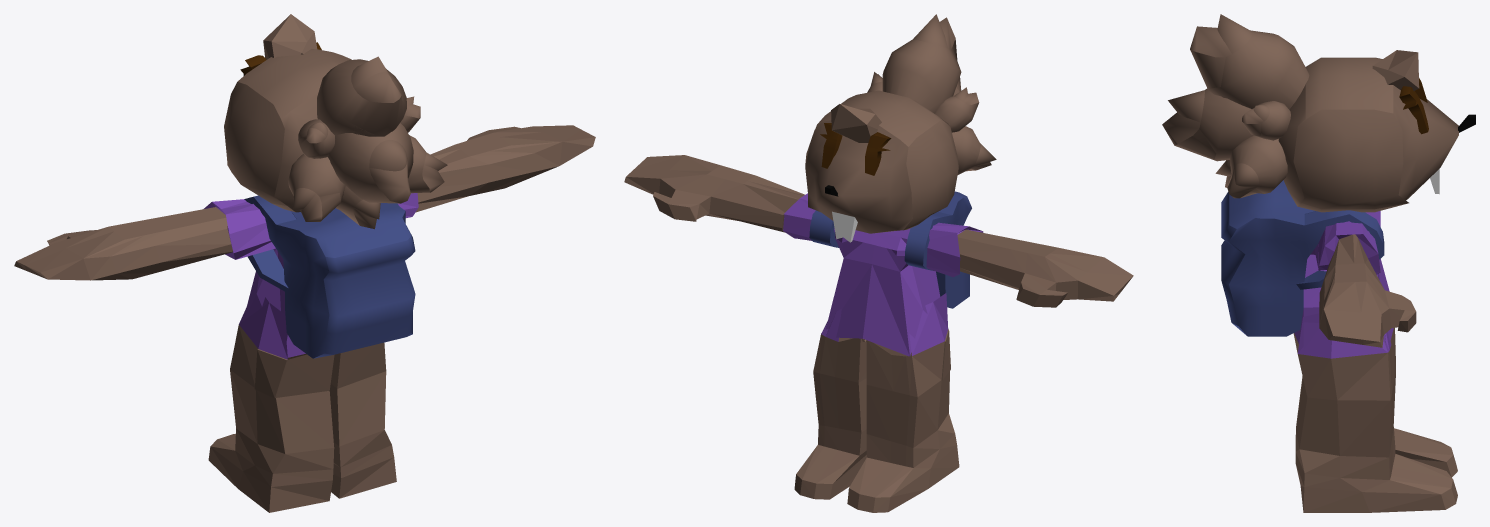
3 views of the same model, side by side, from view 1: azimuth 30°, elevation 25°; view 2: azimuth 150°, elevation 25°; view 3: azimuth 270°, elevation 25° (orthographic). The views are drawn at different scales.
Visible parts, largest first — view 1: pCube1, pCube6, pCube2, pCylinder3, pCylinder4, pCylinder6, pPlatonic2, pCylinder5, pCylinder9, pCylinder7; view 2: pCube1, pCube2, pCylinder3, pCube6, pPlatonic2, pCube4, pCylinder6, pCylinder9; view 3: pCube1, pCube2, pCube6, pCylinder3, pCylinder4, pCylinder5, pCylinder8, pPlatonic2, pCube4.
Part boxes in pixels (box(x1,y1,x2,y2)): pCube1: box(14, 125, 595, 512); pCube6: box(244, 195, 415, 358); pCube2: box(224, 49, 351, 212); pCylinder3: box(317, 56, 406, 136); pCylinder4: box(328, 123, 413, 203); pCylinder6: box(288, 154, 345, 221); pPlatonic2: box(263, 14, 317, 59); pCylinder5: box(408, 135, 447, 193); pCylinder9: box(298, 119, 334, 158); pCylinder7: box(336, 186, 380, 229); pCube1: box(624, 155, 1133, 512); pCube2: box(805, 90, 958, 233); pCylinder3: box(882, 14, 961, 113); pCube6: box(809, 191, 971, 308); pPlatonic2: box(831, 104, 881, 142); pCube4: box(820, 123, 891, 175); pCylinder6: box(952, 126, 996, 174); pCylinder9: box(935, 87, 979, 132); pCube1: box(1293, 211, 1457, 512); pCube2: box(1278, 57, 1458, 212); pCube6: box(1221, 180, 1384, 336); pCylinder3: box(1190, 14, 1309, 109); pCylinder4: box(1162, 88, 1253, 161); pCylinder5: box(1227, 135, 1287, 198); pCylinder8: box(1242, 101, 1290, 140); pPlatonic2: box(1372, 50, 1419, 90); pCube4: box(1399, 78, 1428, 134).
Bounding box in the file's own units: 5.59 × 4.52 × 2.72.
